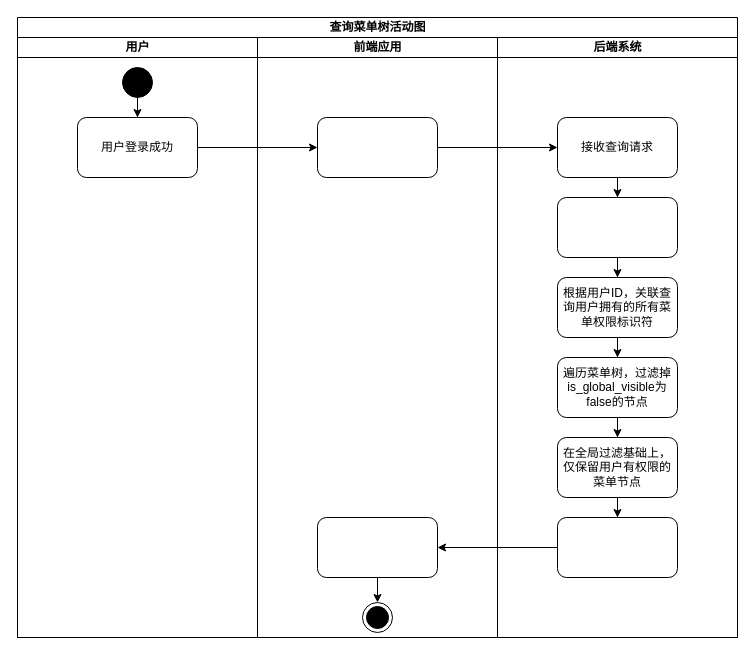
Image size: 755x655. Some labels were removed from this diagram. Each missing label, with the centre of its shape:
"从菜单表查询所有有效菜单项，构建完整的树形结构" belongs at (x=617, y=227).
"发送查询菜单树请求，携带当前用户ID" belongs at (x=377, y=147).
"将过滤后的最终菜单树数据返回给前端" belongs at (x=617, y=547).
"根据返回数据，渲染生成左侧导航栏或主导航菜单" belongs at (x=377, y=547).
